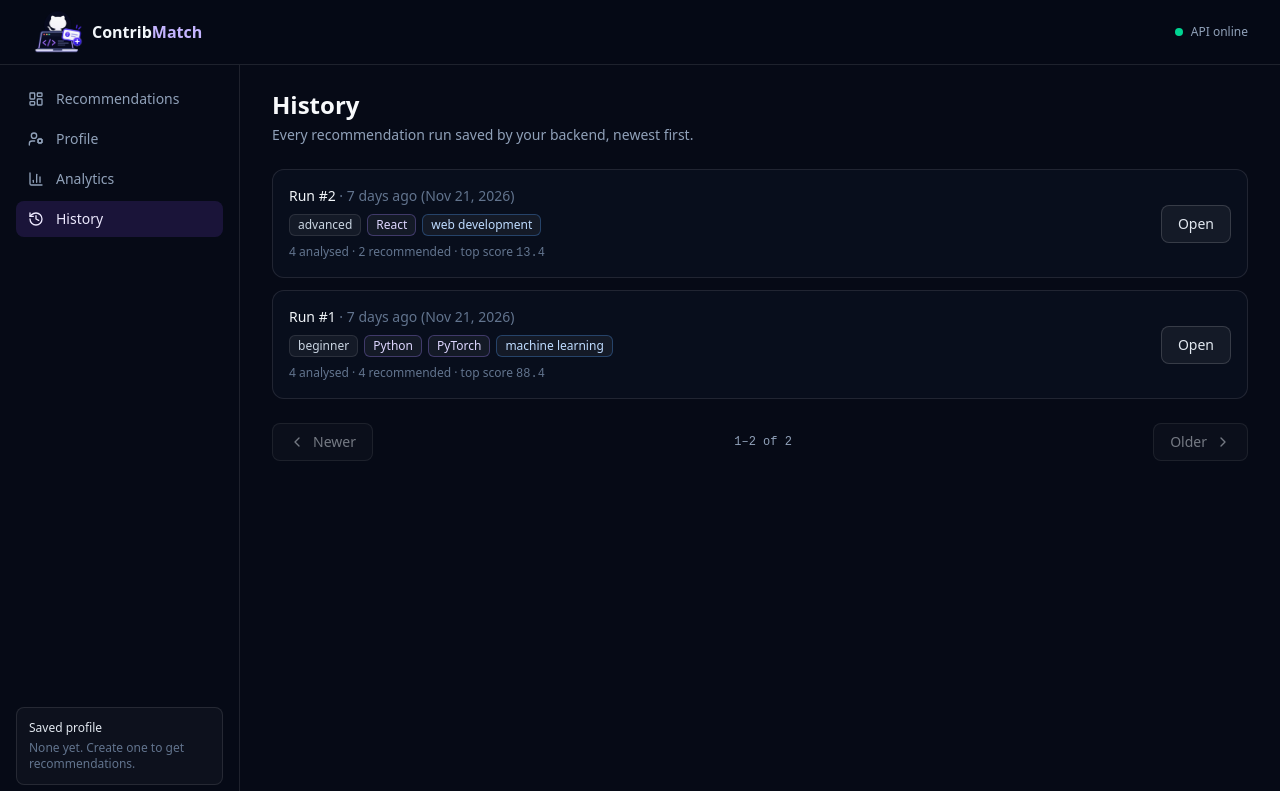
Test case: History › lists runs and opens one in the dashboard
Click the button "Open" in the row of "advanced" at (1196, 224), box [1161,204,1231,242]
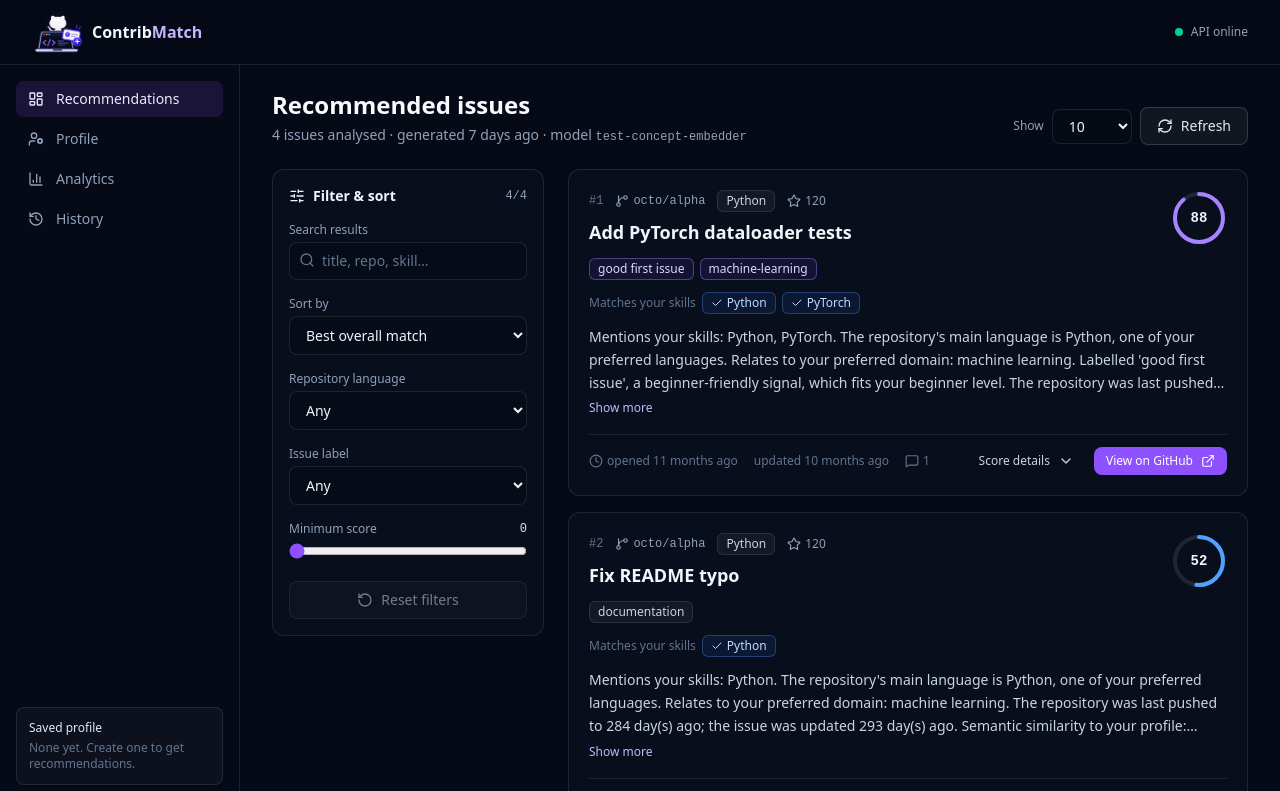
Result: the heading "Recommended issues" is shown at [272,88,530,121]
